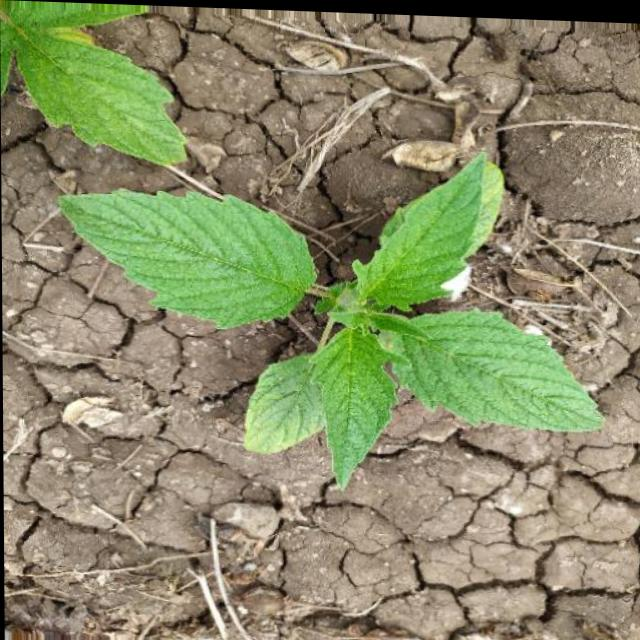crop: (57, 142, 613, 497)
